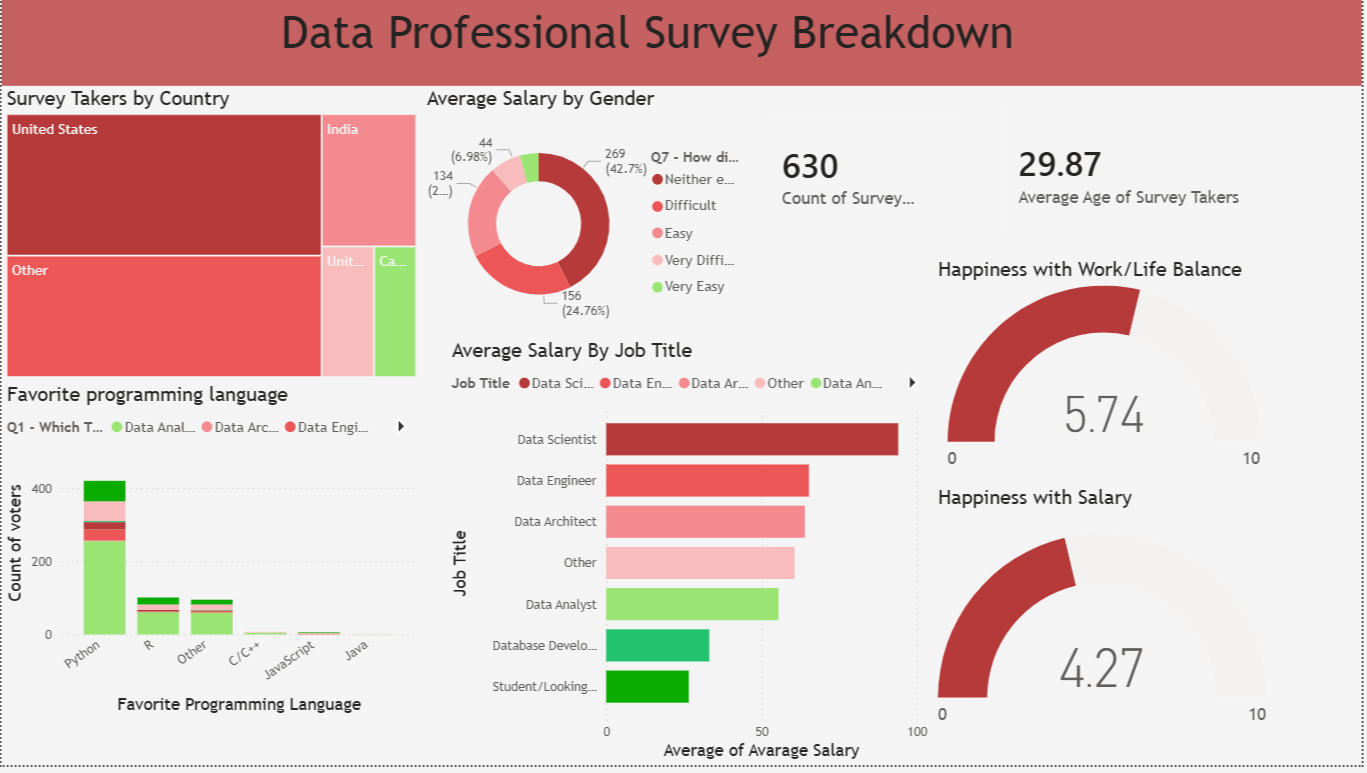

The dashboard page shown, as its layout file describes it:
{"tool":"powerbi","page":{"name":"Page 1","canvas":[1280,720],"ordinal":0},"visuals":[{"type":"textbox","box":[10,0,280,280],"z":0},{"type":"textbox","box":[0,0,1280.3,81],"z":1000},{"type":"textbox","box":[10,570,280,150],"z":2000},{"type":"cardVisual","fields":{"Data":["Count(Data Professional Survey.Unique ID)"]},"box":[675.3,81.2,274.1,152.9],"z":3000},{"type":"cardVisual","fields":{"Data":["Avg(Data Professional Survey.Q10 - Current Age)"]},"box":[927.1,81.2,271.8,161.2],"z":4000},{"type":"barChart","title":"Average Salary By Job Title","fields":{"Category":["Data Professional Survey.Q1 - Which Title Best Fits your Current Role?.1"],"Y":["Avg(Data Professional Survey.Avarage Salary)"],"Series":["Data Professional Survey.Q1 - Which Title Best Fits your Current Role?.1"]},"box":[418.8,318.8,457.6,401.2],"z":5000},{"type":"columnChart","title":"Favorite programming language","fields":{"Category":["Data Professional Survey.Q5 - Favorite Programming Language.1"],"Y":["CountNonNull(Data Professional Survey.Unique ID)"],"Series":["Data Professional Survey.Q1 - Which Title Best Fits your Current Role?.1"]},"box":[0,360,395.3,316.5],"z":5001},{"type":"gauge","title":"Happiness with Work/Life Balance","fields":{"Y":["Avg(Data Professional Survey.Q6 - How Happy are you in your Current Position with the following? (Work/Life Balance))"],"MinValue":["Min(Data Professional Survey.Q6 - How Happy are you in your Current Position with the following? (Work/Life Balance))"],"MaxValue":["Max(Data Professional Survey.Q6 - How Happy are you in your Current Position with the following? (Work/Life Balance))1"]},"box":[876.5,242.4,322.4,207.1],"z":5002},{"type":"gauge","title":"Happiness with Salary","fields":{"MinValue":["Min(Data Professional Survey.Q6 - How Happy are you in your Current Position with the following? (Salary))"],"Y":["Avg(Data Professional Survey.Q6 - How Happy are you in your Current Position with the following? (Salary))"],"MaxValue":["Max(Data Professional Survey.Q6 - How Happy are you in your Current Position with the following? (Salary))1"]},"box":[876.5,456.5,318.8,252.9],"z":5003},{"type":"donutChart","title":" Average Salary by Gender ","fields":{"Category":["Data Professional Survey.Q7 - How difficult was it for you to break into Data?"],"Y":["CountNonNull(Data Professional Survey.Q7 - How difficult was it for you to break into Data?)"]},"box":[395.3,81.2,311.8,237.6],"z":5004},{"type":"treemap","title":"Survey Takers by Country","fields":{"Group":["Data Professional Survey.Q11 - Which Country do you live in?.1"],"Values":["CountNonNull(Data Professional Survey.Q11 - Which Country do you live in?.1)"]},"box":[0,81.2,395.3,278.8],"z":5005}]}

Visuals, with their boxes in screenshot pixels (x1, y1, x2, y2), scaled from the page's 1280x720 canvas onto the 1367x773 screenshot:
textbox: <region>11, 0, 310, 301</region>
textbox: <region>0, 0, 1366, 87</region>
textbox: <region>11, 612, 310, 772</region>
cardVisual - Count(Data Professional Survey.Unique ID): <region>721, 87, 1014, 251</region>
cardVisual - Avg(Data Professional Survey.Q10 - Current Age): <region>990, 87, 1280, 260</region>
"Average Salary By Job Title" barChart: <region>447, 342, 936, 772</region>
"Favorite programming language" columnChart: <region>0, 386, 422, 726</region>
"Happiness with Work/Life Balance" gauge: <region>936, 260, 1280, 483</region>
"Happiness with Salary" gauge: <region>936, 490, 1277, 762</region>
" Average Salary by Gender " donutChart: <region>422, 87, 755, 342</region>
"Survey Takers by Country" treemap: <region>0, 87, 422, 386</region>
